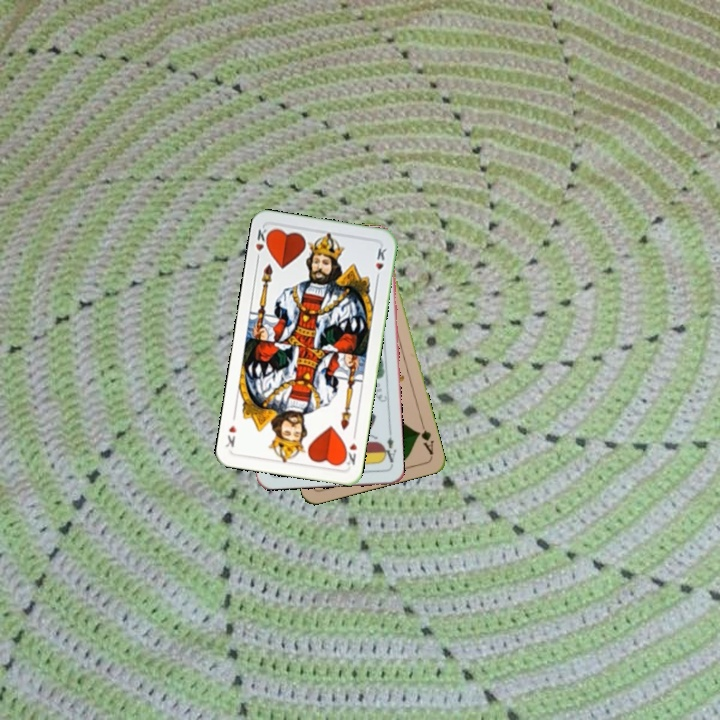EA: (379, 428, 399, 468)
GA: (414, 418, 436, 457)
HK: (251, 224, 273, 264), (339, 439, 360, 467)
